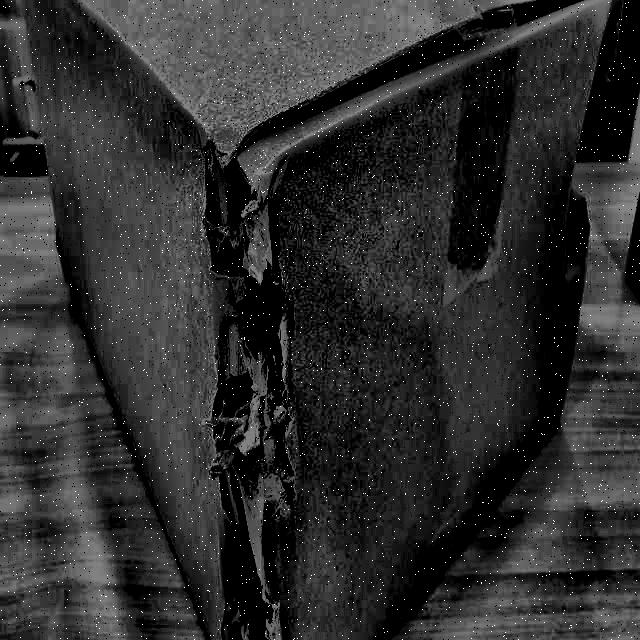box: (10, 0, 640, 639)
hole: (200, 147, 302, 639), (554, 3, 632, 278)
